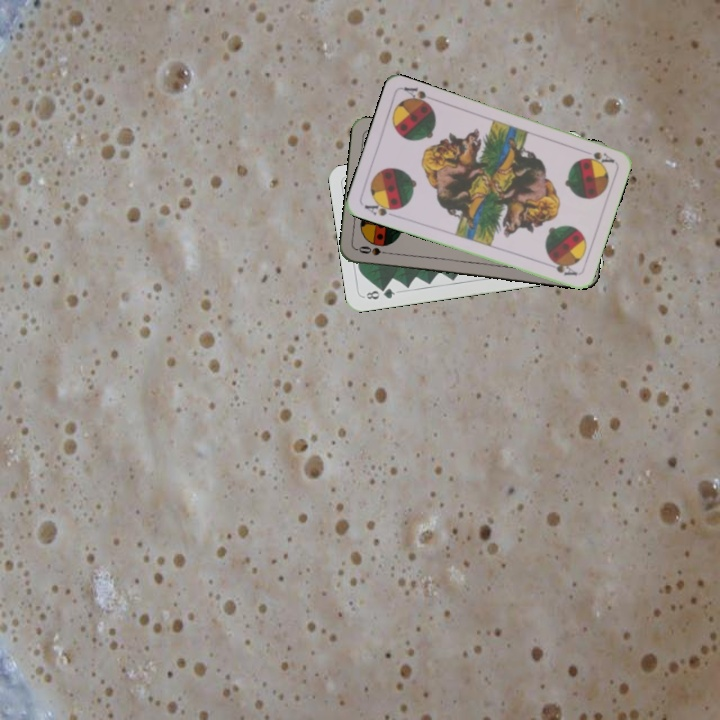G8: (362, 284, 398, 302)
SA: (360, 197, 401, 219), (580, 148, 617, 167)
SO: (354, 242, 395, 258)
